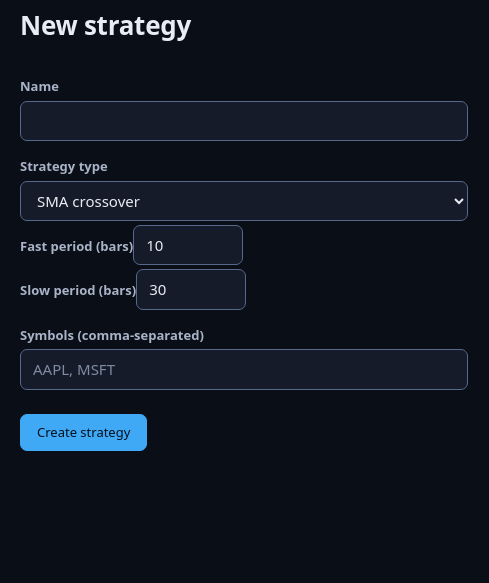
Test: StrategyEditor › surfaces a 422 field error from the server
Type "Good strategy" into the field labelled "Name" at (244, 121), box [20,100,468,141]
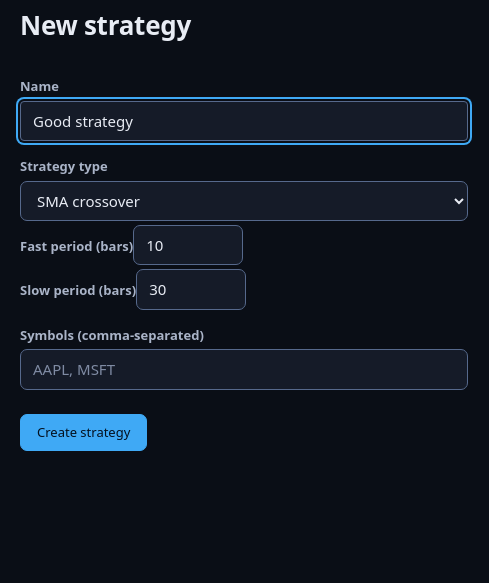
Type "AAPL" into the field labelled "Symbols (comma-separated)" at (244, 369), box [20,349,468,390]
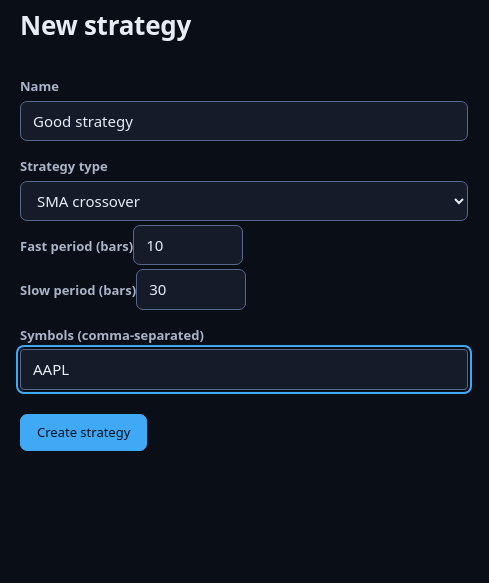
Click the button "Create strategy" at (84, 432), box [20,414,147,451]
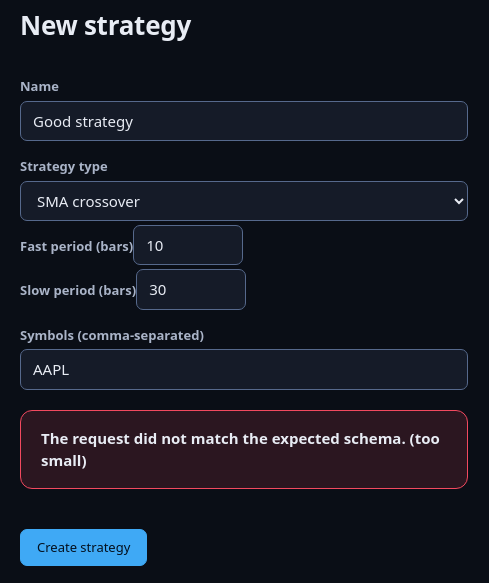
Expected: the message shows "too small", [41,428,440,470]
